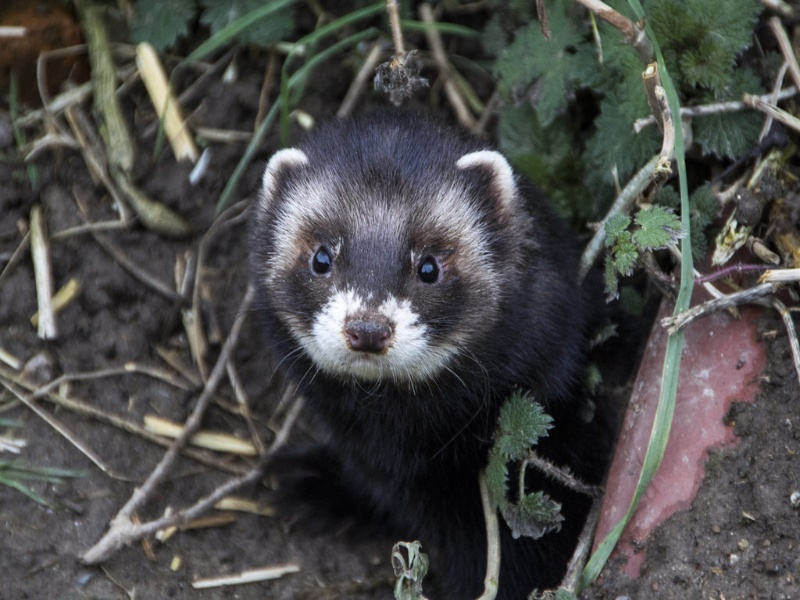minkish: (245, 119, 607, 600)
